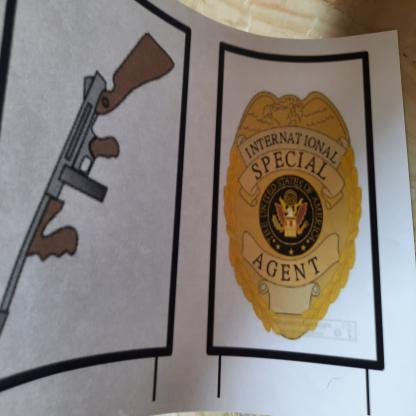Bootlegger: (1, 8, 175, 366)
G-man: (217, 84, 369, 350)
